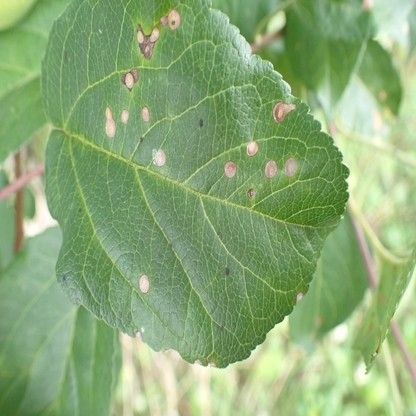frogeye: (137, 23, 160, 59), (274, 100, 296, 122), (160, 8, 181, 29), (122, 67, 139, 91), (106, 106, 116, 138), (225, 161, 238, 180), (285, 158, 297, 177), (139, 275, 150, 294), (266, 161, 278, 178), (247, 141, 259, 157), (142, 105, 150, 124), (156, 152, 166, 166), (296, 292, 304, 304), (122, 109, 129, 122), (249, 190, 255, 200), (135, 332, 142, 340)
